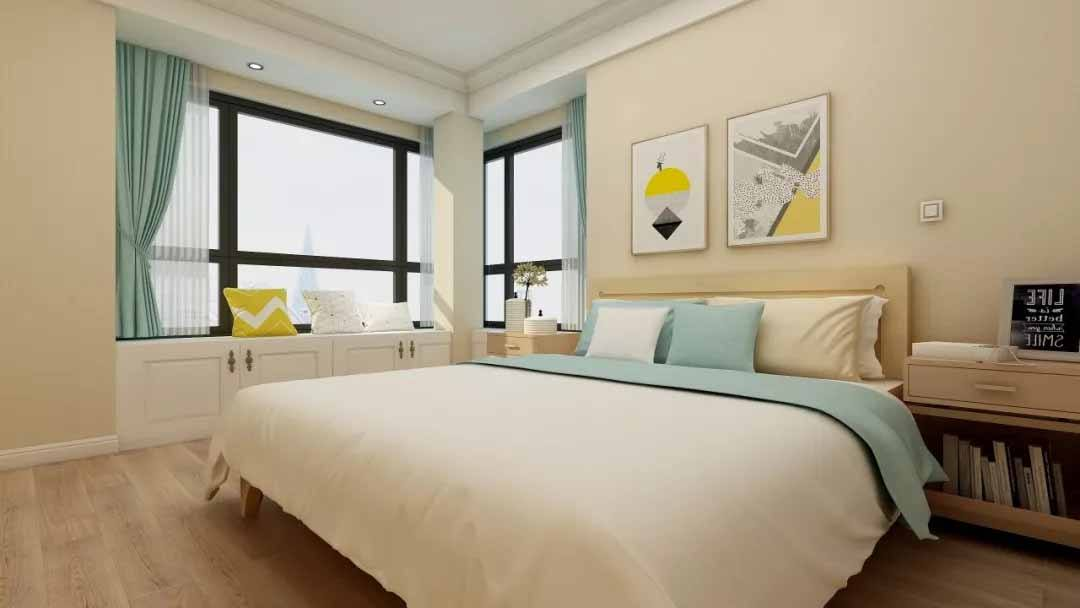床: (194, 351, 943, 601)
枕头: (588, 296, 880, 383), (220, 293, 424, 337)
灯: (241, 59, 264, 75), (369, 98, 388, 113)
